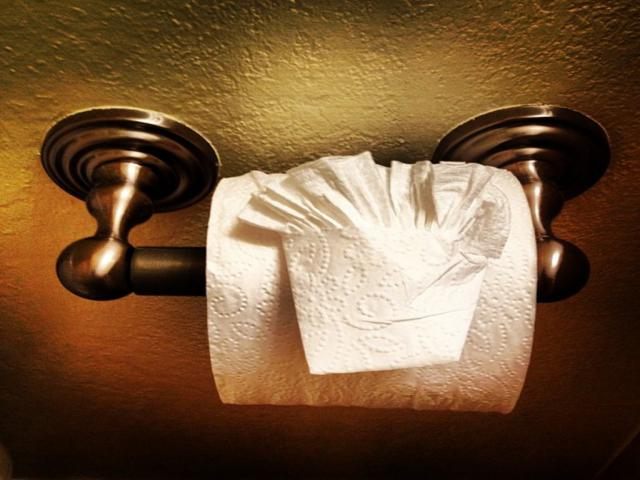Door-handle: (31, 104, 616, 312)
